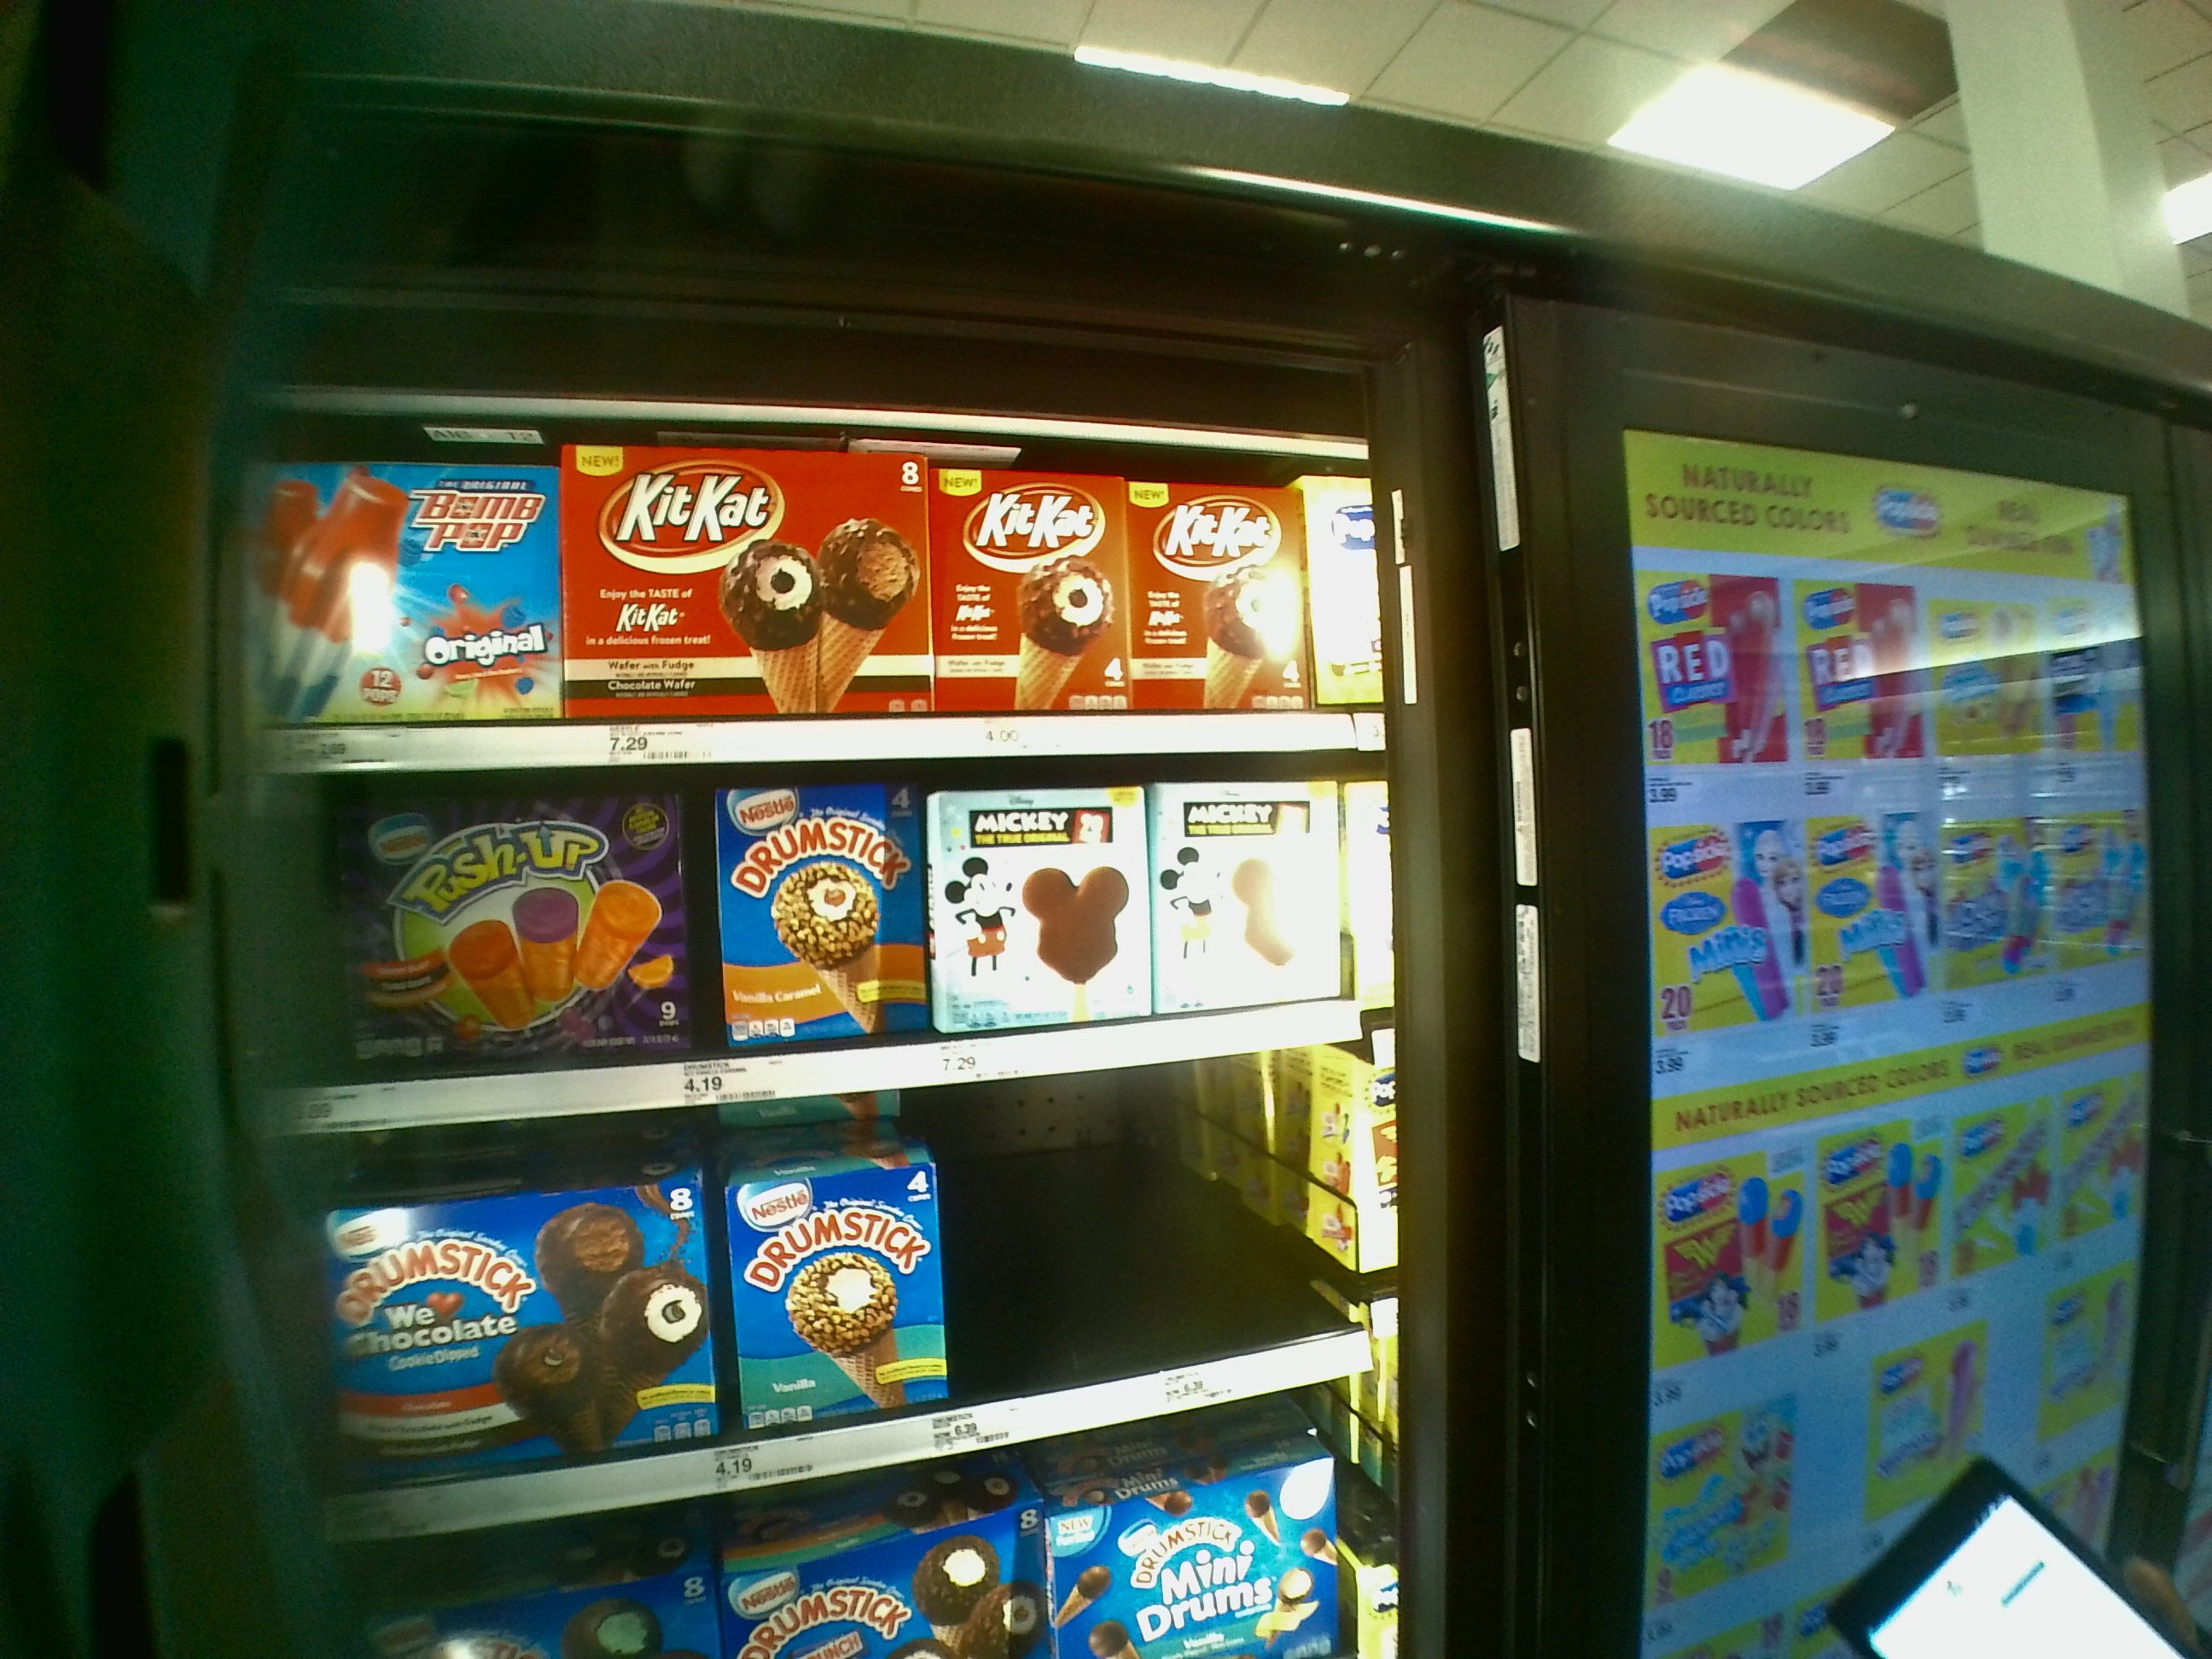shelf: (336, 1082, 1402, 1492), (275, 756, 1390, 1119), (253, 404, 1383, 760)
